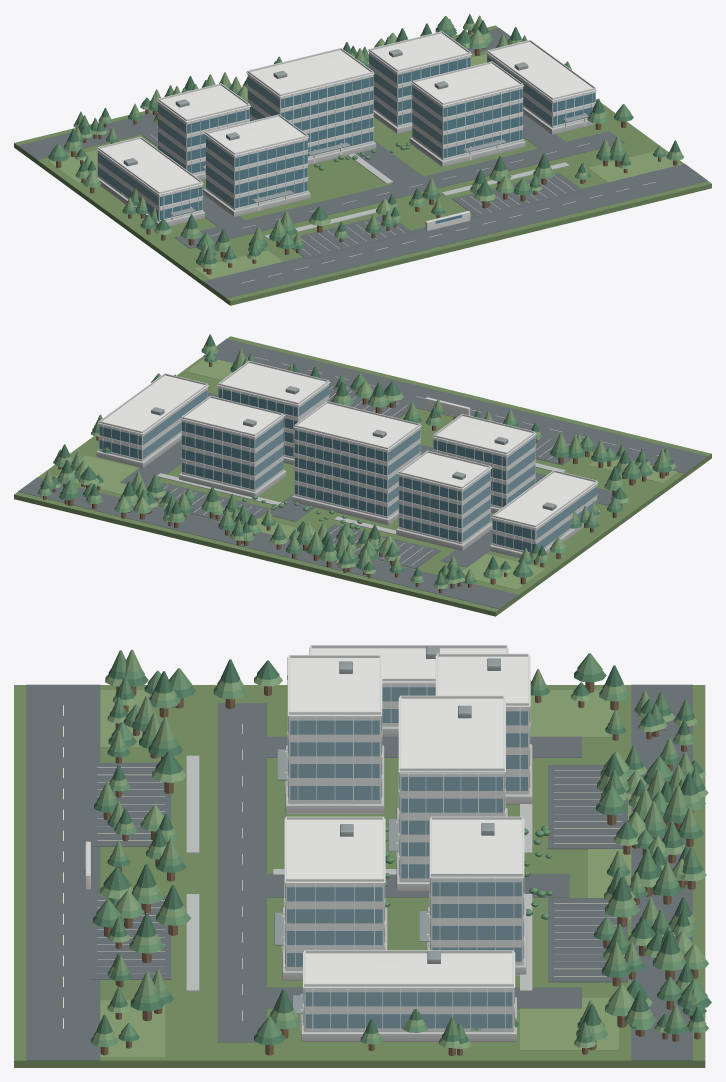
Rendered from industrial_park.glb.
The picture shows the model from 3 angles, top to bottom: view 1: azimuth 30°, elevation 25°; view 2: azimuth 150°, elevation 25°; view 3: azimuth 270°, elevation 25°; orthographic projection. The views are drawn at different scales.
Parts seen in each view (by area): view 1: Terrain pad 144 x 112 m, South boulevard, Main east west campus drive, A | Central research headquarters | glazing south north -1 f (×5), E | South east production offices | glazing south north -1 f (×4), A | Central research headquarters | roof cap, D | South west innovation center | glazing south north -1 fl (×4), F | East logistics hall | roof cap, G | West service building | roof cap, E | South east production offices | roof cap, E | South east production offices | main volume, North access road (+25 smaller); view 2: Terrain pad 144 x 112 m, South boulevard, North access road, A | Central research headquarters | glazing south north 1 fl (×5), A | Central research headquarters | roof cap, C | North east engineering block | glazing south north 1 flo (×4), F | East logistics hall | roof cap, A | Central research headquarters | main volume, G | West service building | roof cap, E | South east production offices | roof cap, D | South west innovation center | roof cap, C | North east engineering block | roof cap (+29 smaller); view 3: Terrain pad 144 x 112 m, South boulevard, Main east west campus drive, A | Central research headquarters | roof cap, North access road, F | East logistics hall | roof cap, E | South east production offices | roof cap, C | North east engineering block | roof cap, D | South west innovation center | roof cap, Parking lot.002, Parking lot.003, Parking lot (+39 smaller).
Part boxes in pixels (bbox=[...]): Terrain pad 144 x 112 m: bbox=[14, 25, 711, 305]; South boulevard: bbox=[203, 163, 707, 298]; Main east west campus drive: bbox=[174, 131, 624, 248]; A | Central research headquarters | glazing south north -1 f (×5): bbox=[281, 77, 373, 156]; E | South east production offices | glazing south north -1 f (×4): bbox=[443, 89, 522, 158]; A | Central research headquarters | roof cap: bbox=[246, 50, 374, 97]; D | South west innovation center | glazing south north -1 fl (×4): bbox=[235, 140, 307, 208]; F | East logistics hall | roof cap: bbox=[486, 42, 596, 101]; G | West service building | roof cap: bbox=[96, 139, 203, 195]; E | South east production offices | roof cap: bbox=[411, 63, 523, 106]; E | South east production offices | main volume: bbox=[412, 84, 523, 160]; North access road: bbox=[18, 28, 510, 159]; Terrain pad 144 x 112 m: bbox=[14, 336, 711, 616]; South boulevard: bbox=[203, 339, 707, 473]; North access road: bbox=[18, 477, 518, 609]; A | Central research headquarters | glazing south north 1 fl (×5): bbox=[295, 430, 386, 516]; A | Central research headquarters | roof cap: bbox=[293, 403, 421, 450]; C | North east engineering block | glazing south north 1 flo (×4): bbox=[182, 422, 254, 489]; F | East logistics hall | roof cap: bbox=[98, 375, 208, 434]; A | Central research headquarters | main volume: bbox=[294, 427, 420, 518]; G | West service building | roof cap: bbox=[491, 472, 598, 528]; E | South east production offices | roof cap: bbox=[217, 363, 330, 405]; D | South west innovation center | roof cap: bbox=[432, 416, 536, 455]; C | North east engineering block | roof cap: bbox=[180, 398, 284, 437]; Terrain pad 144 x 112 m: bbox=[14, 685, 705, 1067]; South boulevard: bbox=[26, 684, 100, 1060]; Main east west campus drive: bbox=[217, 703, 266, 1042]; A | Central research headquarters | roof cap: bbox=[398, 697, 505, 772]; North access road: bbox=[631, 684, 692, 1060]; F | East logistics hall | roof cap: bbox=[303, 952, 515, 988]; E | South east production offices | roof cap: bbox=[284, 818, 385, 883]; C | North east engineering block | roof cap: bbox=[429, 818, 524, 878]; D | South west innovation center | roof cap: bbox=[287, 657, 382, 716]; Parking lot.002: bbox=[548, 765, 627, 849]; Parking lot.003: bbox=[548, 898, 627, 982]; Parking lot: bbox=[91, 762, 171, 846].
Bounding box in the file's own units: 144 × 23.65 × 113.
